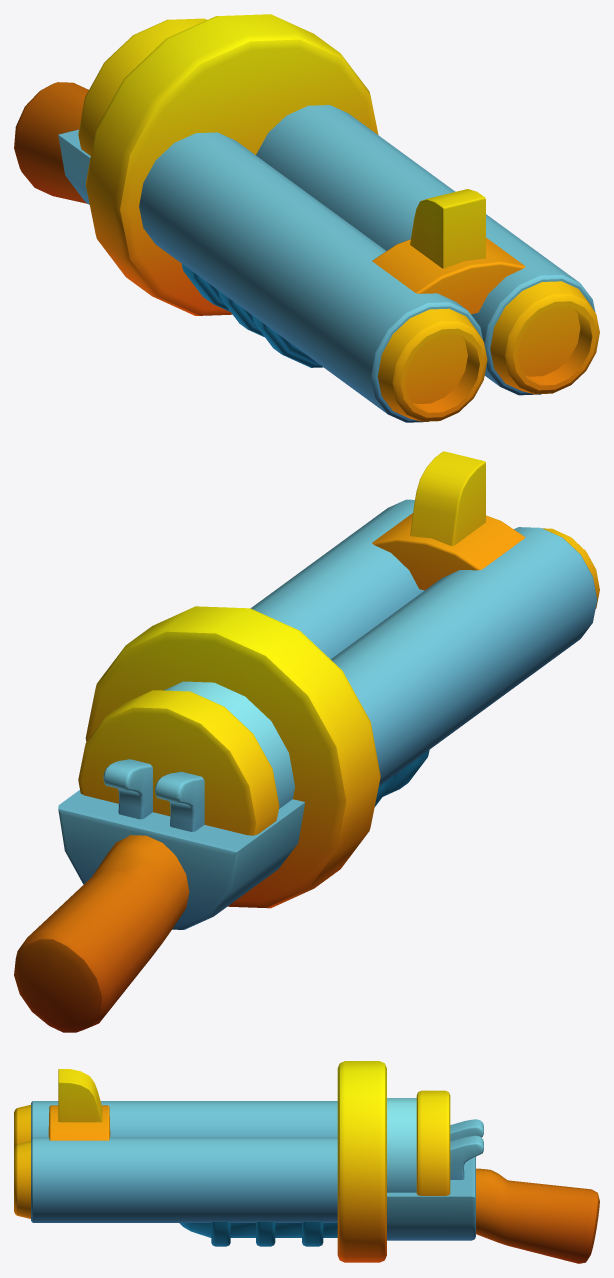
Rendered from Shotgun.fbx.
The picture shows the model from 3 angles, top to bottom: view 1: azimuth 30°, elevation 25°; view 2: azimuth 150°, elevation 25°; view 3: azimuth 270°, elevation 25°; orthographic projection. The views are drawn at different scales.
Visible parts, largest first — view 1: Shotgun; view 2: Shotgun; view 3: Shotgun.
Boxes of the visible parts, left/top/right/bottom form: Shotgun: left=14, top=14, right=599, bottom=422; Shotgun: left=14, top=451, right=599, bottom=1032; Shotgun: left=14, top=1061, right=599, bottom=1263.
Bounding box in the file's own units: 40.42 × 42.25 × 117.
1 material, 1 textured.
